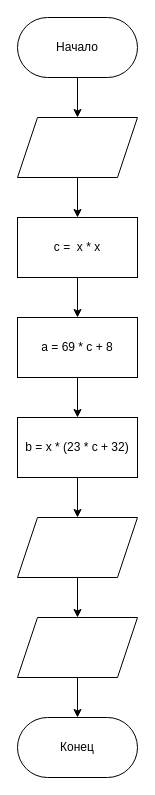
The diagram is 155 pixels wide and 795 high, and some of its shapes have lost their labels. The centre of each missing label's shape, as x and y in pixels:
Ввод x: (x=77, y=147)
Вывод a + b: (x=77, y=547)
Вывод a - b: (x=77, y=647)
